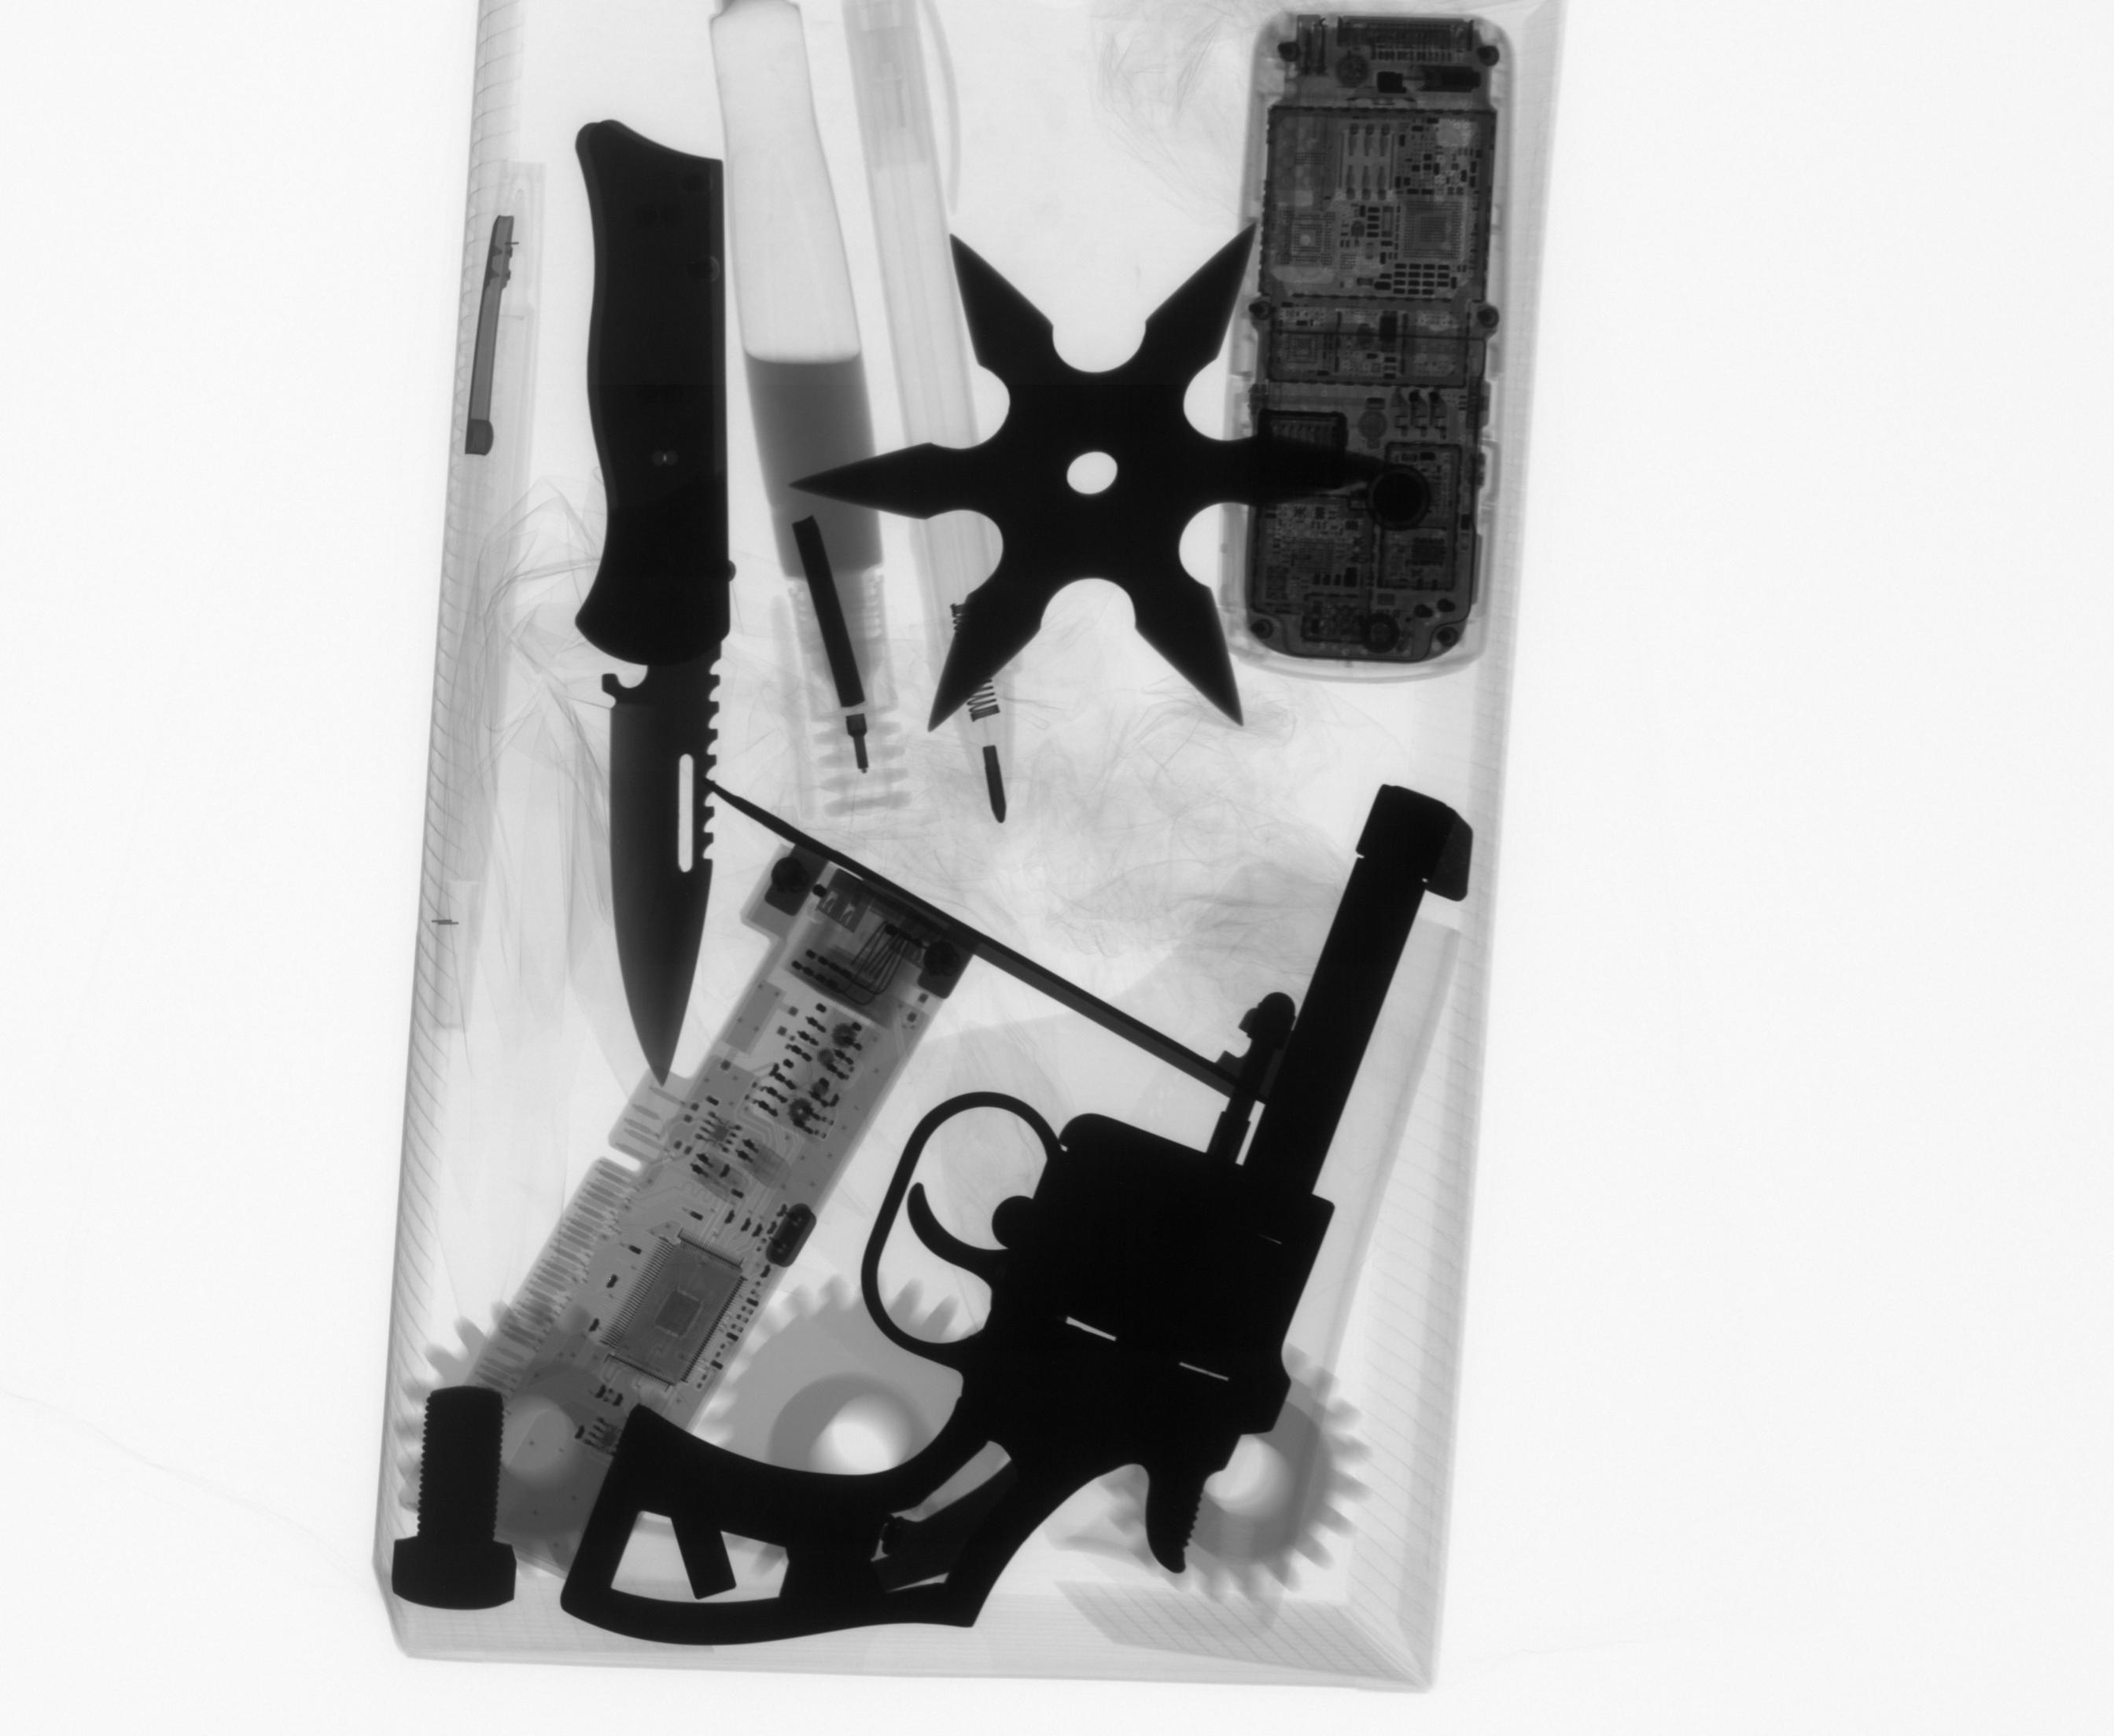Handgun: (550, 773, 1485, 1655)
Knife: (567, 111, 743, 1093)
Shuriken: (781, 206, 1405, 744)
